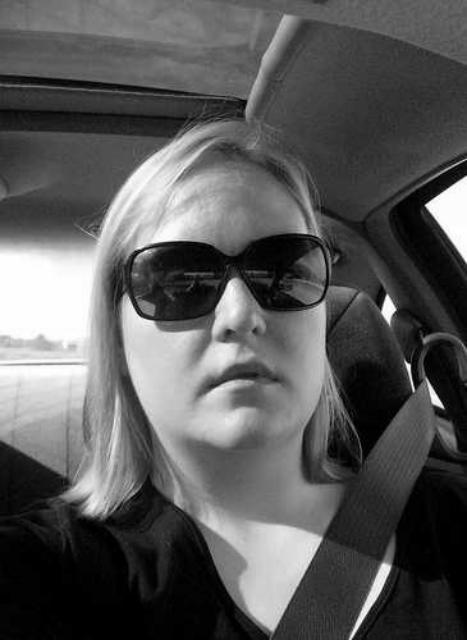SafeDriving: (147, 260, 218, 314)
Seatbelt: (262, 372, 442, 640)
